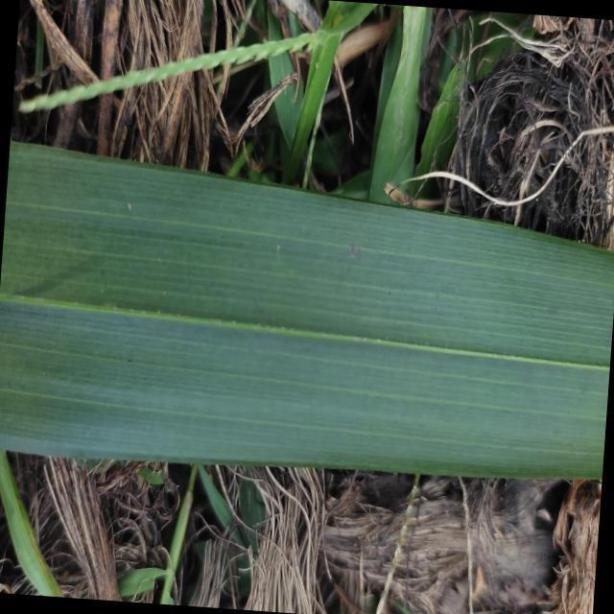Healthy: (1, 142, 614, 462)
